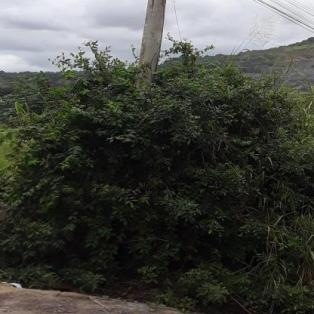Poste: (112, 0, 203, 75)
